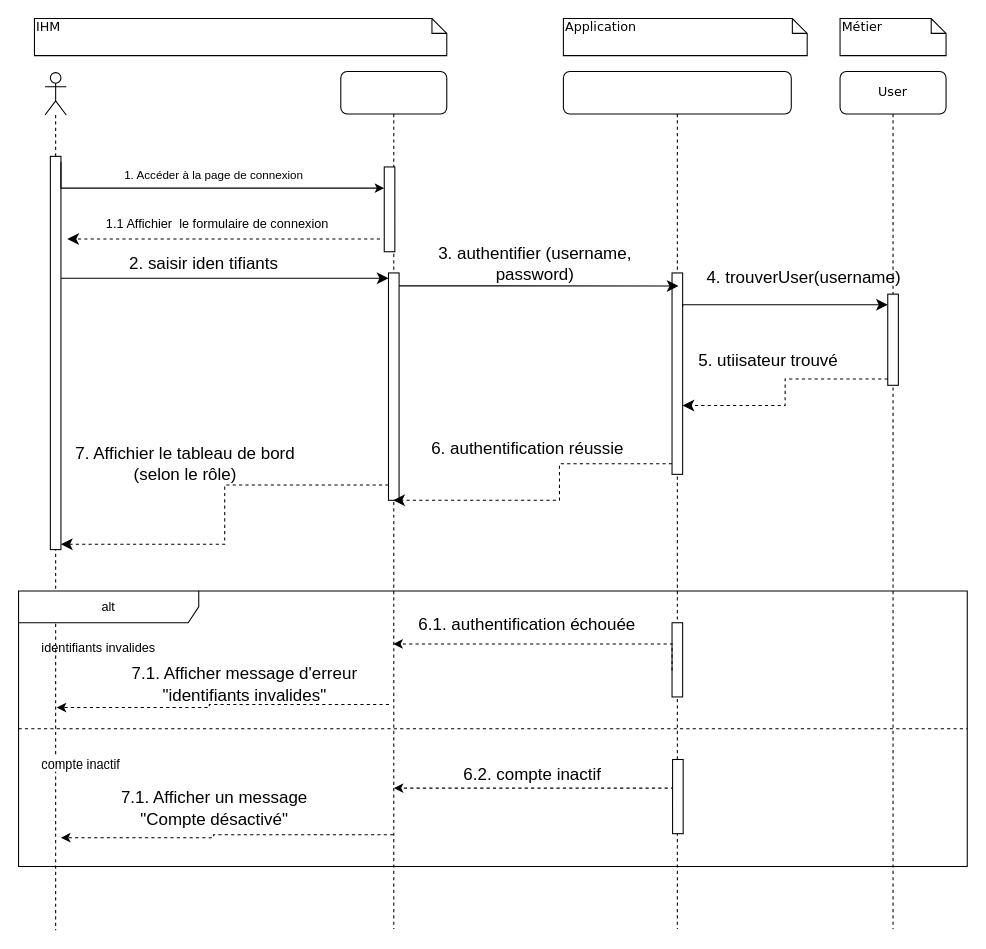
The diagram is 986 pixels wide and 949 high, and some of its shapes have lost their labels. The box of each missing label's shape, as (x1, y1, x2, y2) in pixels:
AuthControleur: (562, 70, 791, 929)
interface de connexion: (340, 70, 447, 929)
